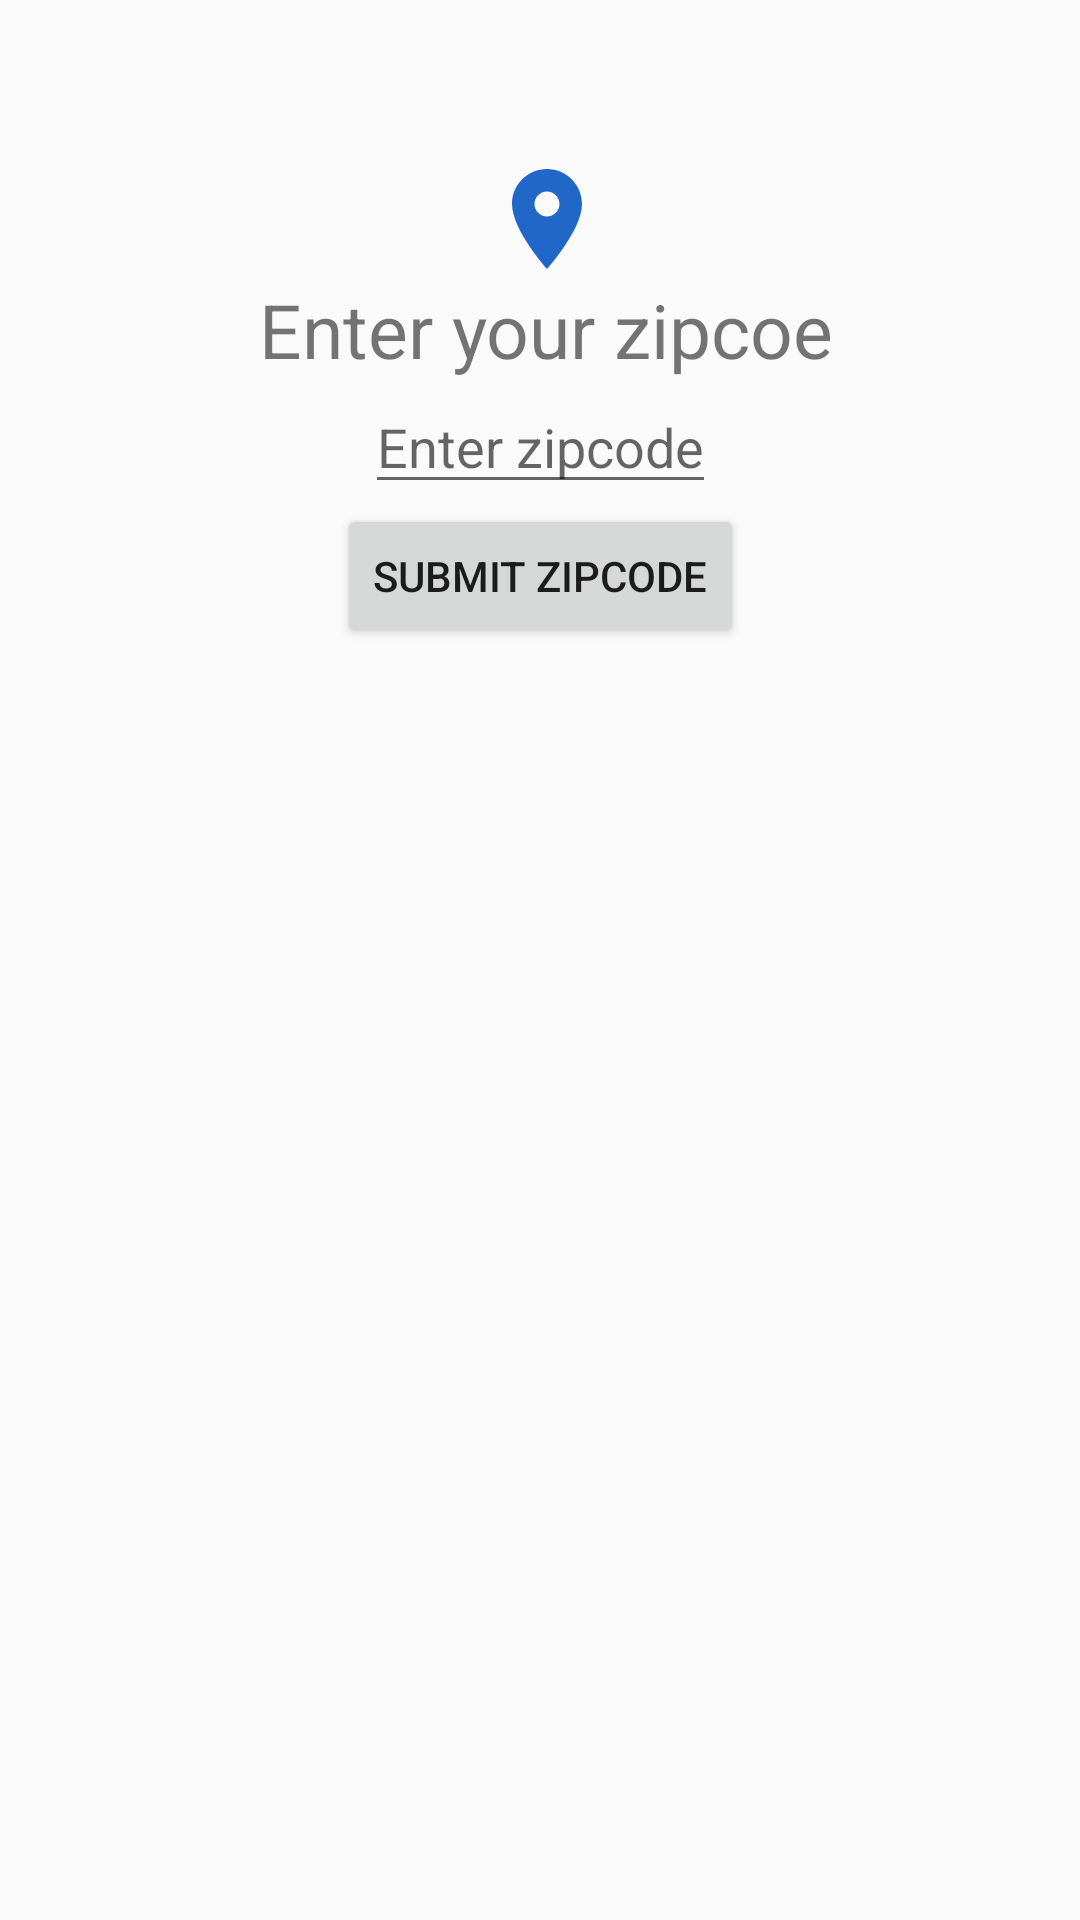

Icons on this 1080px x 1920px Android screen, each with the point to tap as (x=x, y=y):
location on: (x=547, y=219)
